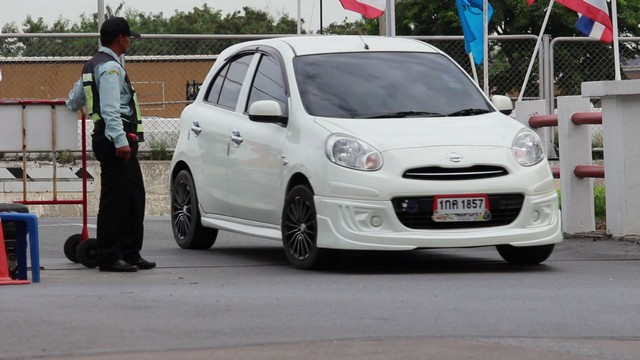in: (438, 198, 484, 218)
out: (432, 194, 490, 223)
